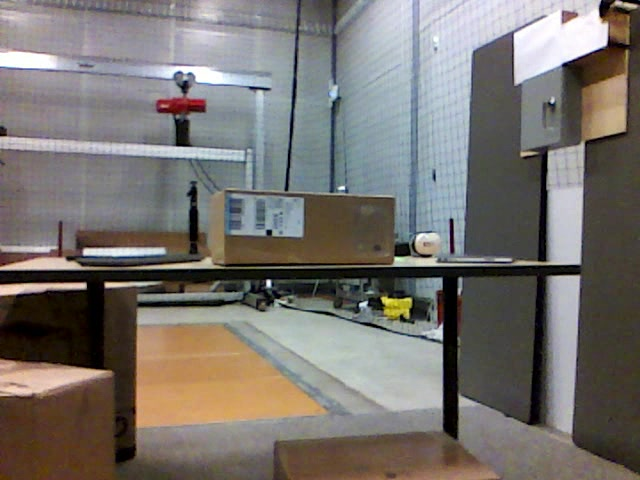box: (1, 284, 137, 462), (209, 189, 397, 268), (1, 361, 114, 480), (274, 429, 496, 480)
